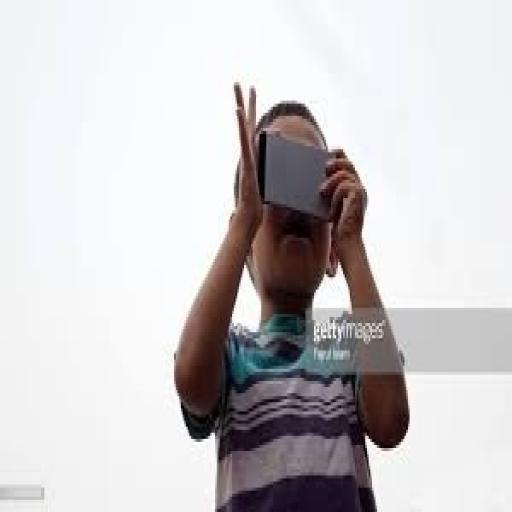texting: (171, 76, 411, 509)
